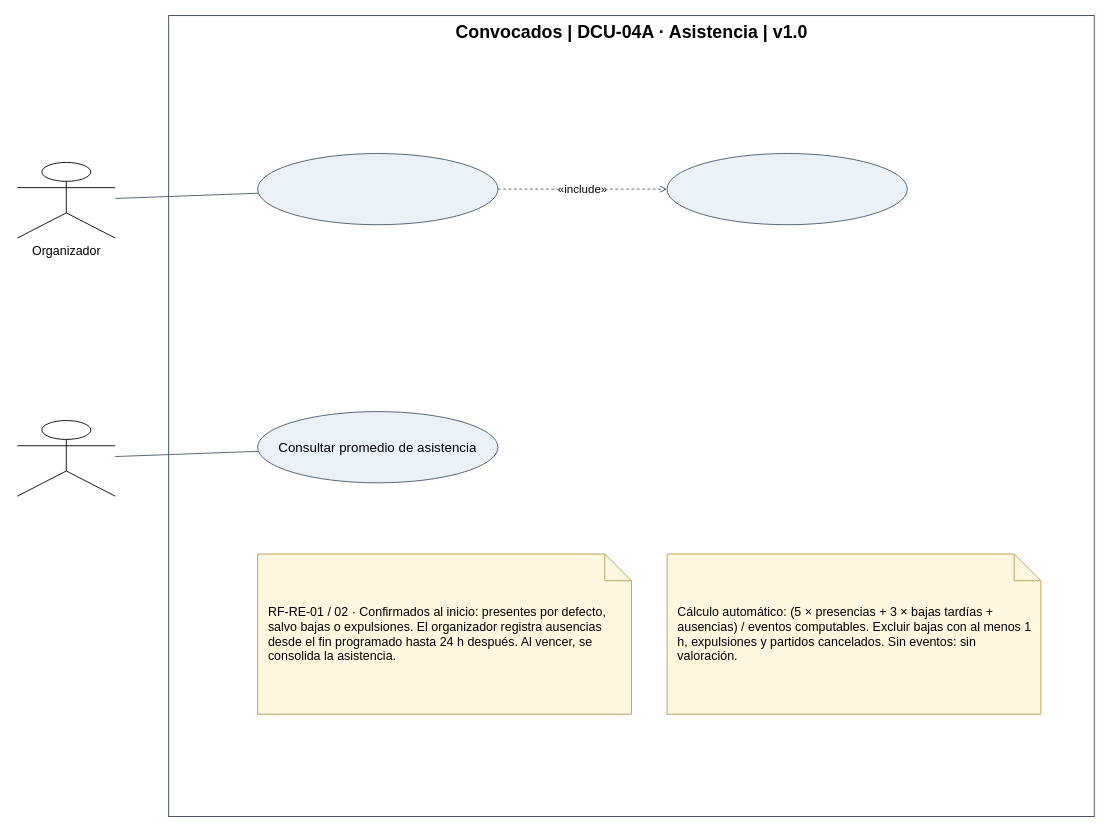
Some shapes in this 1110 by 832 pixel diagram are drawn without their labels. Here are the shapes that lost their labels. From the top down, the centre of each, then its label:
point (377, 189): Registrar ausencias
point (786, 189): Validar plazo de 24 h y partido realizado
point (65, 458): Usuario registrado
